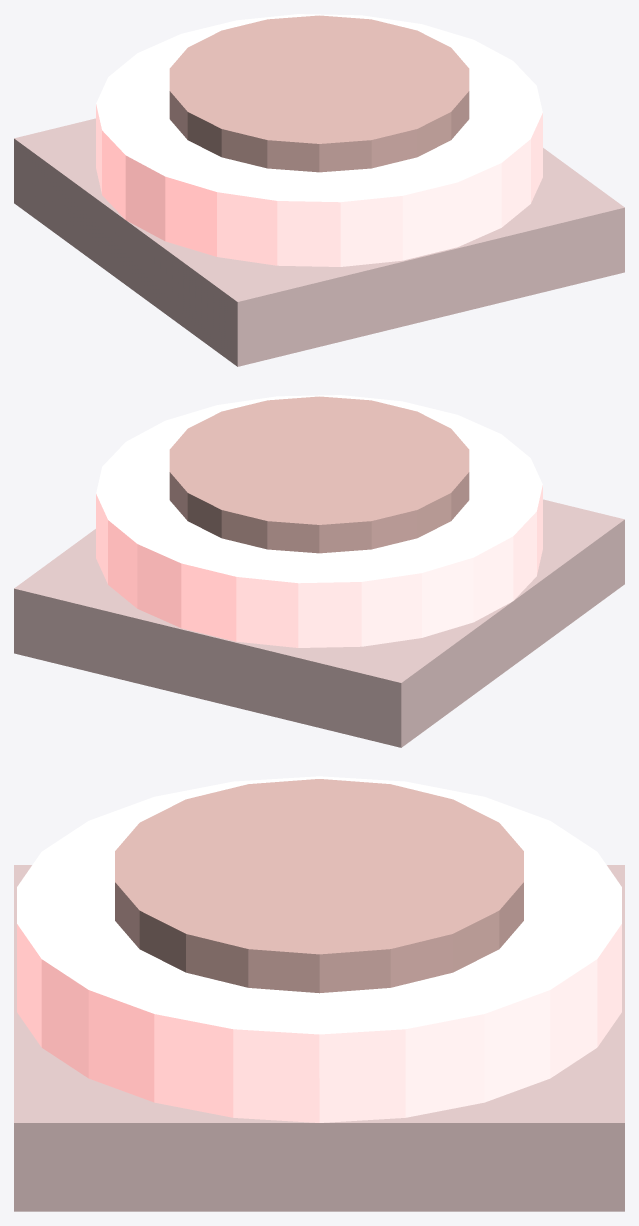
File: Bounce_Thin.glb
3 views of the same model, one above another, from view 1: azimuth 30°, elevation 25°; view 2: azimuth 150°, elevation 25°; view 3: azimuth 270°, elevation 25° (orthographic). The views are drawn at different scales.
Parts seen in each view (by area): view 1: bounce_base.004, Bounce_Thin_body, bounce_fill_ring.004; view 2: bounce_base.004, Bounce_Thin_body, bounce_fill_ring.004; view 3: bounce_base.004, Bounce_Thin_body, bounce_fill_ring.004.
Boxes of the visible parts, x1,y1,x2,y2 form: bounce_base.004: [96, 14, 542, 266]; Bounce_Thin_body: [14, 118, 624, 366]; bounce_fill_ring.004: [169, 15, 469, 172]; bounce_base.004: [96, 395, 542, 647]; Bounce_Thin_body: [14, 499, 624, 747]; bounce_fill_ring.004: [169, 396, 469, 553]; bounce_base.004: [17, 776, 621, 1122]; Bounce_Thin_body: [14, 865, 624, 1211]; bounce_fill_ring.004: [115, 779, 523, 993].
Bounding box in the file's own units: 1 × 0.39 × 1.
